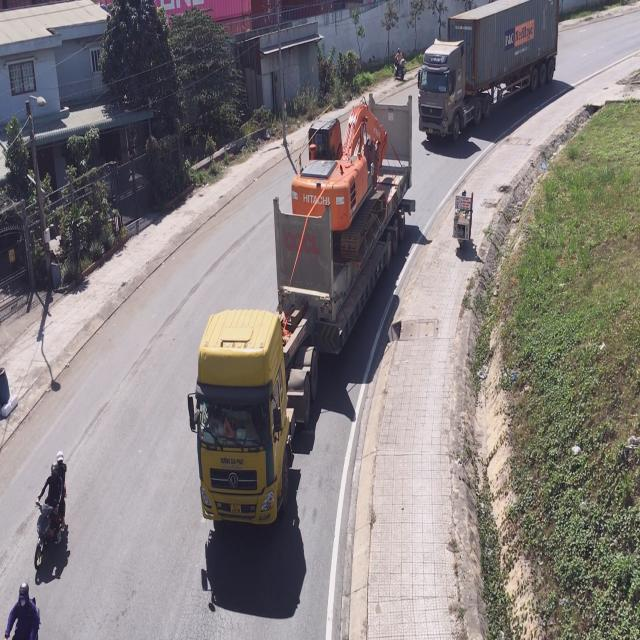motorbike: (34, 449, 68, 581), (1, 577, 39, 638), (455, 191, 472, 248)
truck: (194, 96, 411, 535), (414, 0, 555, 144), (0, 1, 109, 121)
